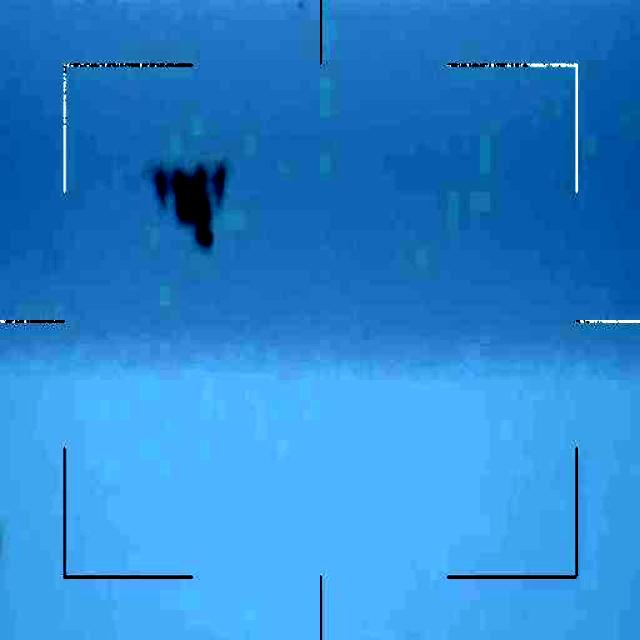bird: (148, 152, 234, 252)
